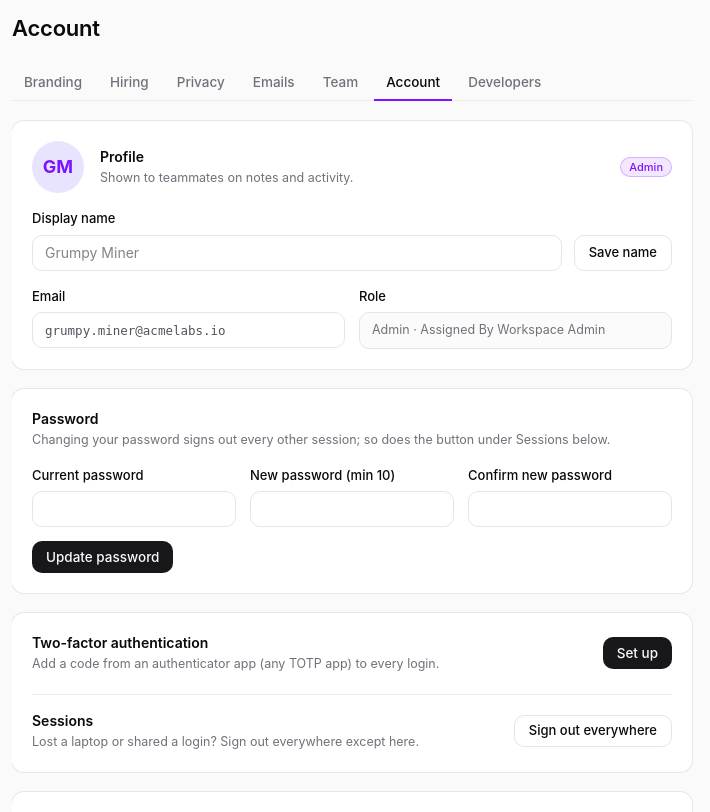
Test: AccountPage › saves the display name and shows the server's label as the placeholder
The image size is (710, 812).
Type "The Miner" into the field labelled "Display name" at x=297, y=252, box [32,234,562,270]
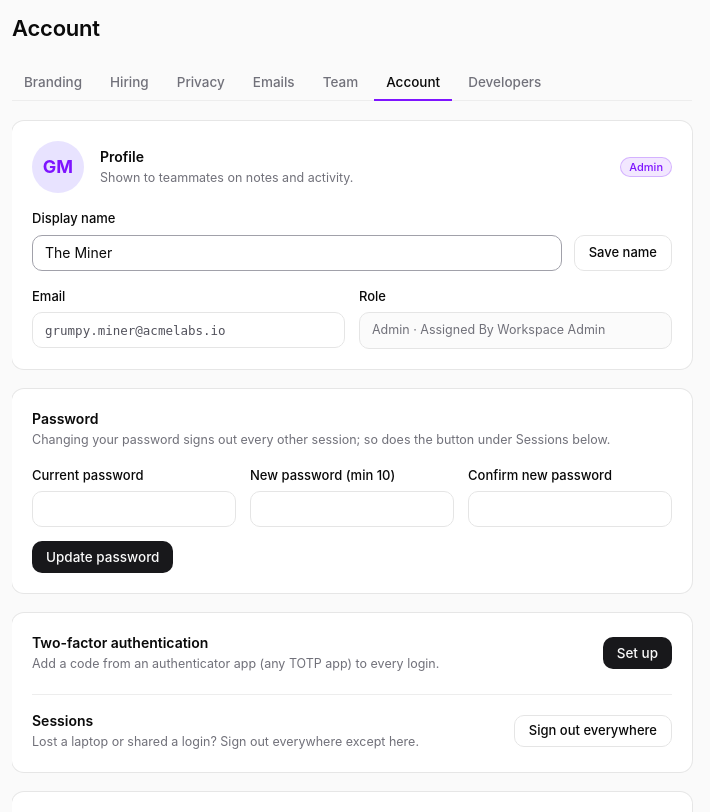
Click the button "Save name" at x=623, y=252, box [574,234,672,270]
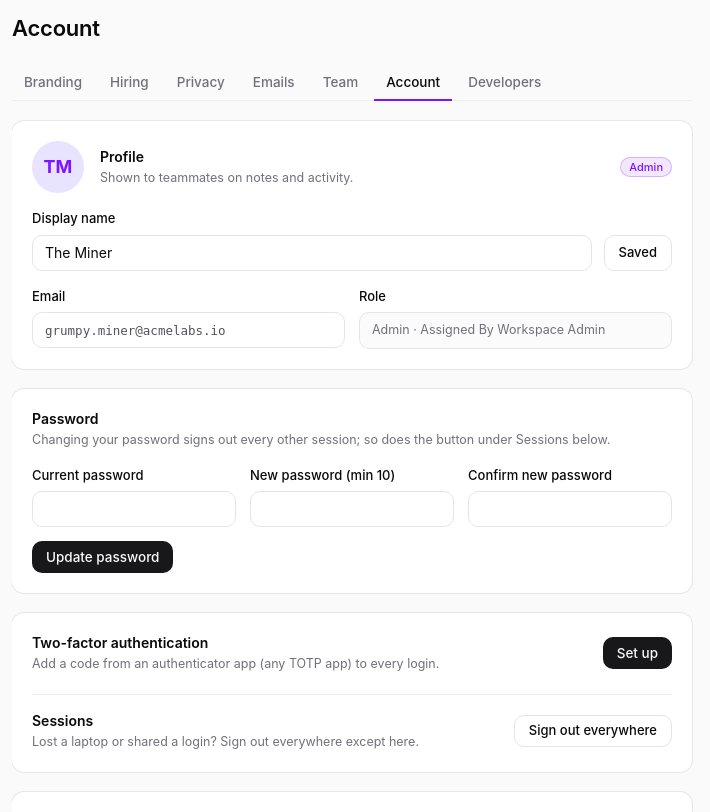
Check: the button "Saved" is shown, box [604,234,672,270]
